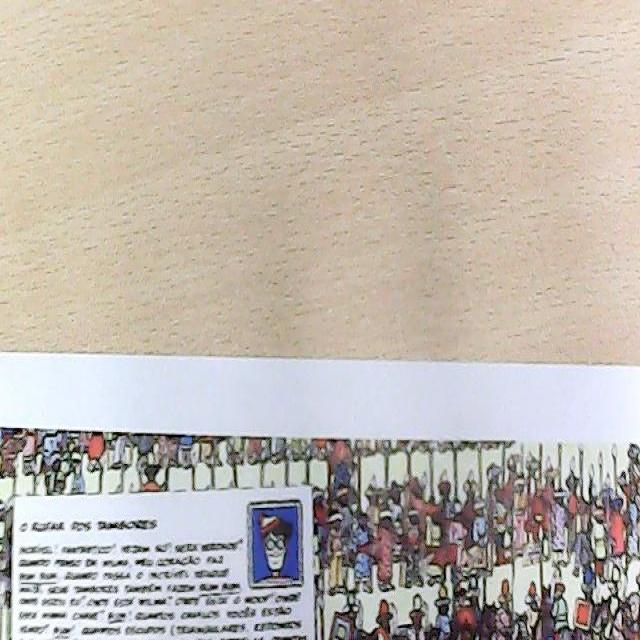waldo: (253, 514, 299, 582), (456, 585, 469, 610)
